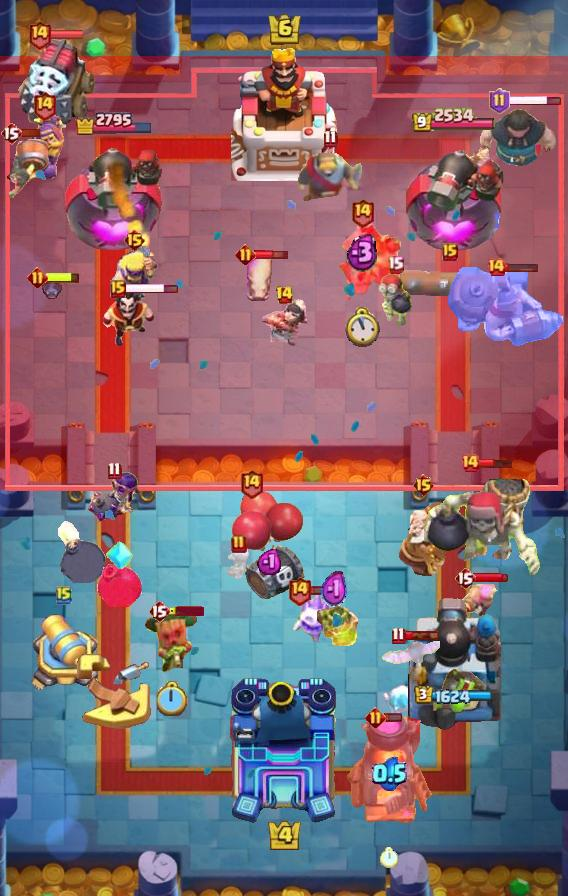bar: (124, 282, 179, 295), (507, 94, 562, 107), (45, 271, 81, 284), (254, 248, 289, 261), (473, 572, 509, 584), (478, 458, 514, 469), (49, 29, 85, 40), (404, 630, 439, 641), (504, 262, 539, 273), (168, 606, 204, 616), (6, 128, 41, 138), (384, 712, 403, 723), (309, 585, 328, 596)
bar-level: (287, 575, 312, 606), (239, 468, 264, 499), (350, 197, 375, 228), (32, 90, 57, 121), (27, 19, 52, 50), (412, 473, 435, 497), (123, 228, 146, 252), (489, 88, 510, 114), (148, 599, 170, 623), (454, 566, 476, 590), (0, 121, 22, 145), (365, 707, 386, 728), (27, 267, 48, 288), (235, 244, 256, 265), (460, 453, 480, 473), (486, 257, 506, 277), (275, 285, 294, 305), (387, 255, 404, 274), (56, 585, 72, 605), (231, 534, 247, 554), (110, 280, 126, 298), (442, 243, 458, 261), (391, 626, 406, 645), (107, 461, 122, 480), (323, 129, 338, 148)
barbarian-evolution: (110, 246, 159, 303)
bat: (38, 274, 66, 302)
bat-evolution: (379, 639, 443, 667)
bomb: (55, 521, 107, 583), (97, 562, 143, 607)
bomber: (377, 274, 413, 328)
bomber-evolution: (86, 469, 142, 525)
cannoneer-tower: (405, 595, 501, 731), (402, 136, 504, 256), (64, 138, 165, 256)
clock: (345, 307, 380, 348), (157, 681, 188, 716), (380, 847, 398, 868)
dart-goblin: (143, 610, 201, 676)
electro-wizard: (101, 286, 157, 350)
elixir: (346, 232, 379, 272), (372, 756, 407, 791), (321, 570, 348, 610), (257, 547, 281, 575)
firecracker: (460, 580, 501, 622)
goblin-ball: (429, 666, 487, 714)
hog: (244, 251, 276, 303)
ice-spirit: (381, 683, 423, 721)
ice-spirit-evolution: (292, 590, 336, 644)
ice-spirit-evolution-symbol: (106, 538, 134, 572)
king-tower: (228, 676, 340, 826), (231, 45, 337, 181)
knight: (297, 150, 364, 203)
knight-evolution: (22, 113, 66, 181)
little-prince: (310, 606, 358, 650)
princess: (258, 296, 310, 348)
skeleton: (225, 547, 253, 581)
the-log: (396, 266, 504, 302)
tower-bar: (411, 107, 496, 134), (74, 110, 154, 135), (414, 685, 493, 705)
wall-breaker: (0, 136, 50, 200)
